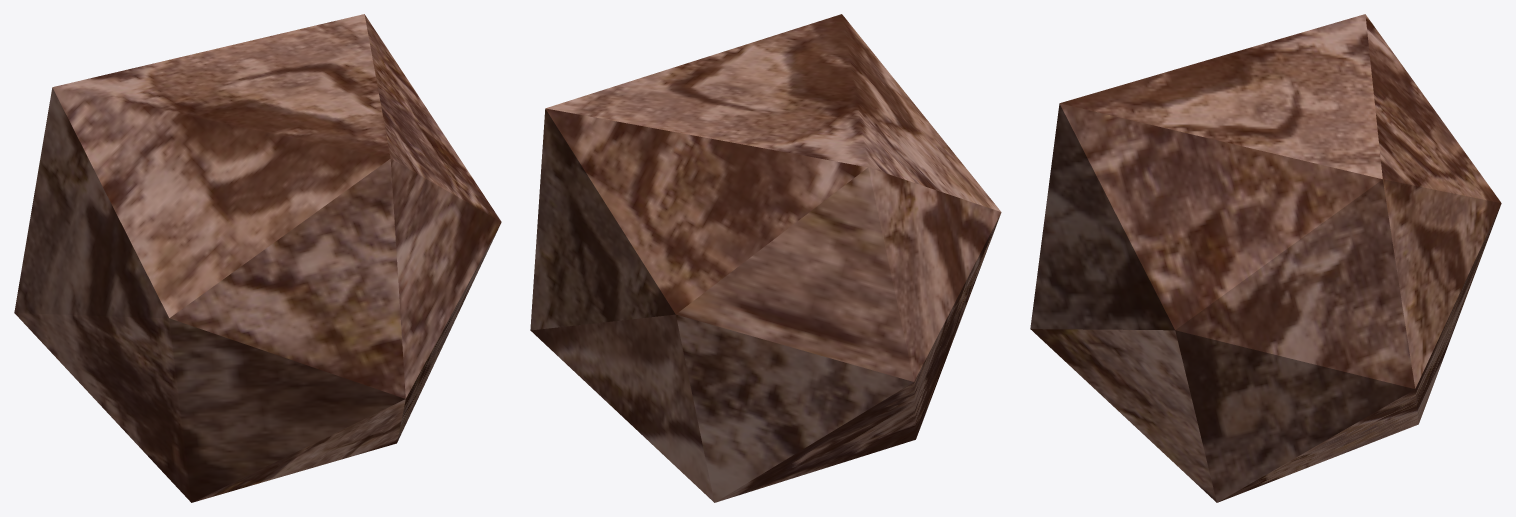
3 renders of one model, left to right at view 1: azimuth 30°, elevation 25°; view 2: azimuth 150°, elevation 25°; view 3: azimuth 270°, elevation 25°, orthographic. The views are drawn at different scales.
Visible parts, largest first — view 1: pPlatonic1; view 2: pPlatonic1; view 3: pPlatonic1.
Part boxes in pixels (<box>): pPlatonic1: <box>14,14,501,502</box>; pPlatonic1: <box>530,14,1001,502</box>; pPlatonic1: <box>1030,14,1501,502</box>.
Size of the model in its own units: 184 by 163 by 193.
